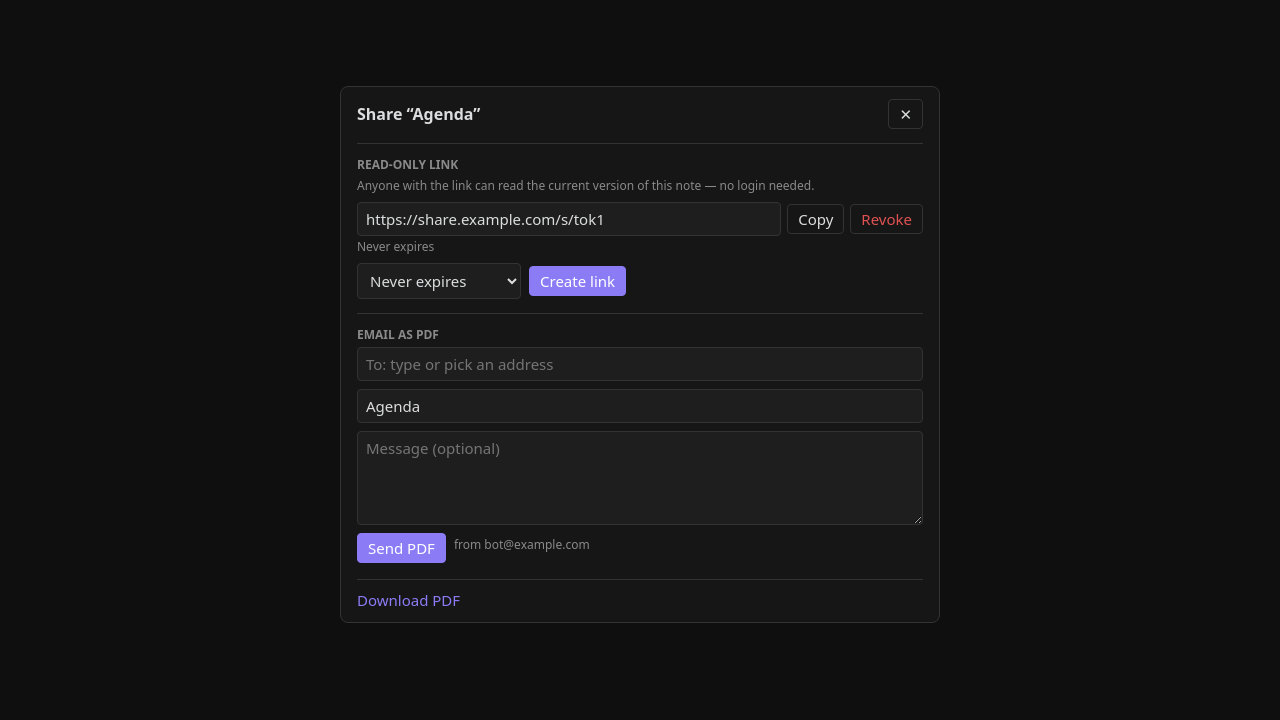
ShareDialog email › sends to comma-separated recipients with the title as default subject
expect the text "from bot@example.com" is shown: met, box [454,536,590,553]
Type "x@example.com, y@example.com" into the dropdown labelled "To" at (640, 364), box [364,352,916,376]
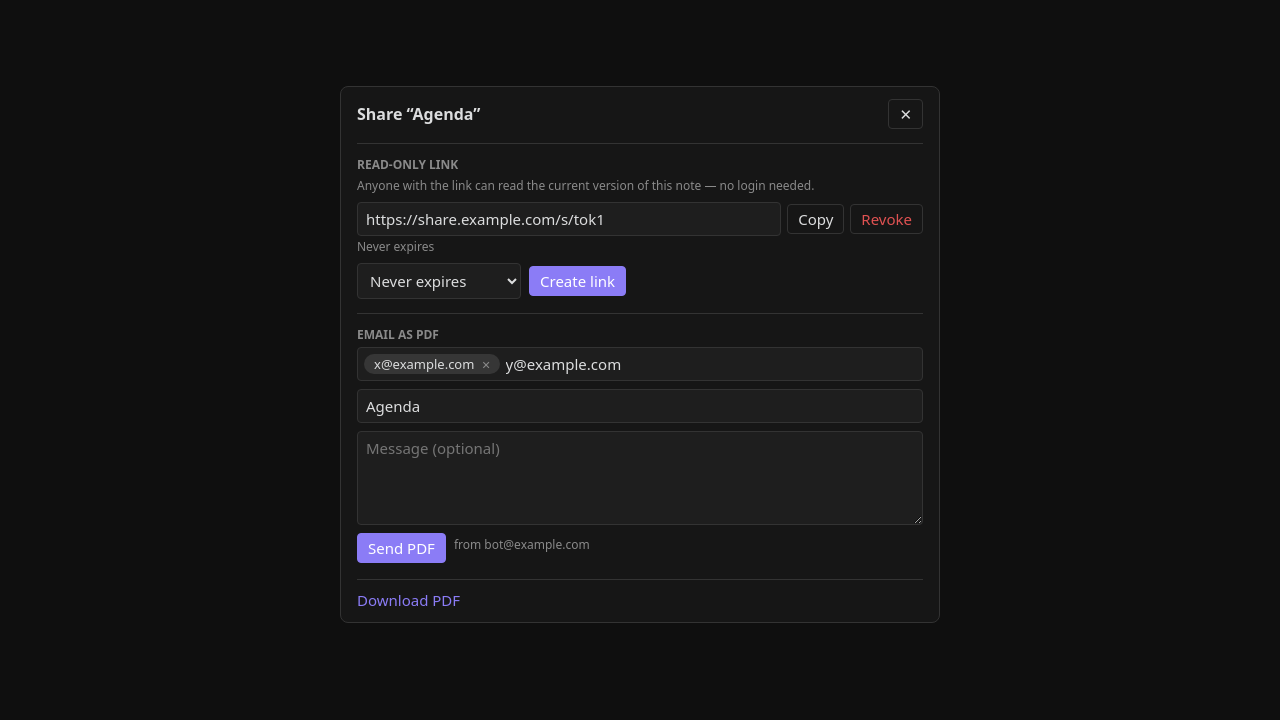
Type "Hej" into the text box labelled "Message" at (640, 478), box [357,431,923,525]
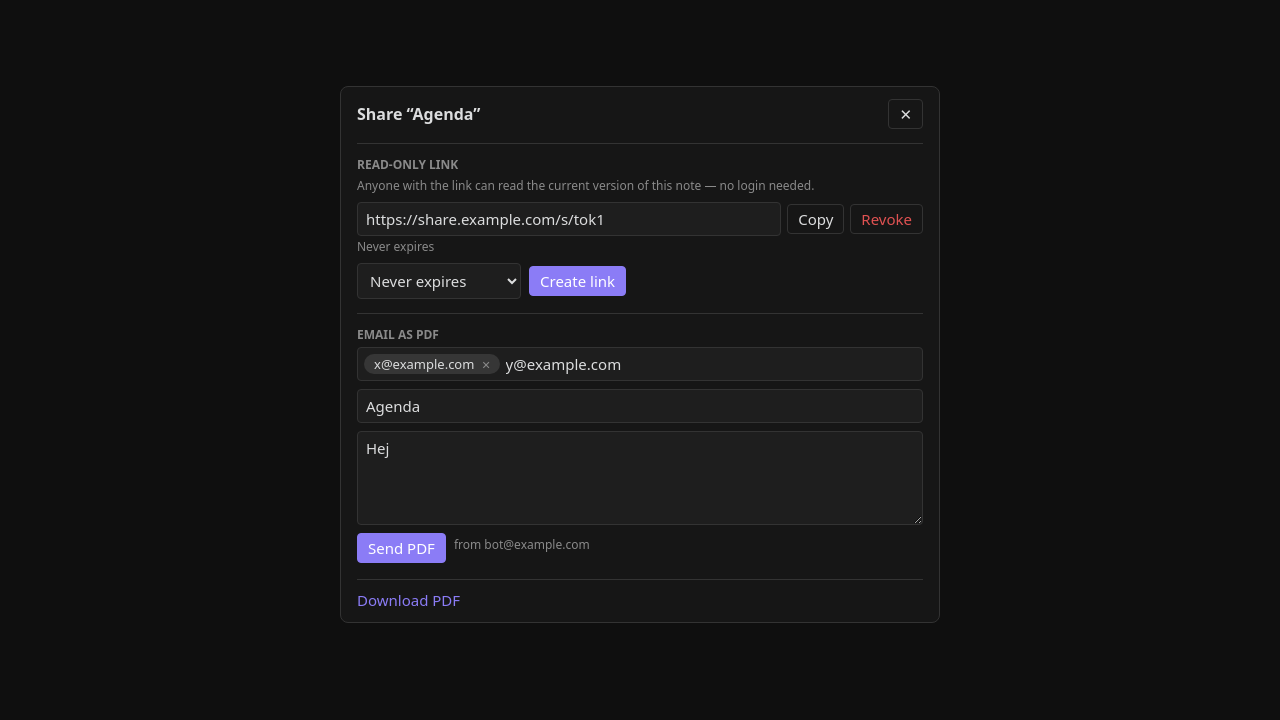
Click the button "Send PDF" at (401, 548), box [357,533,446,563]
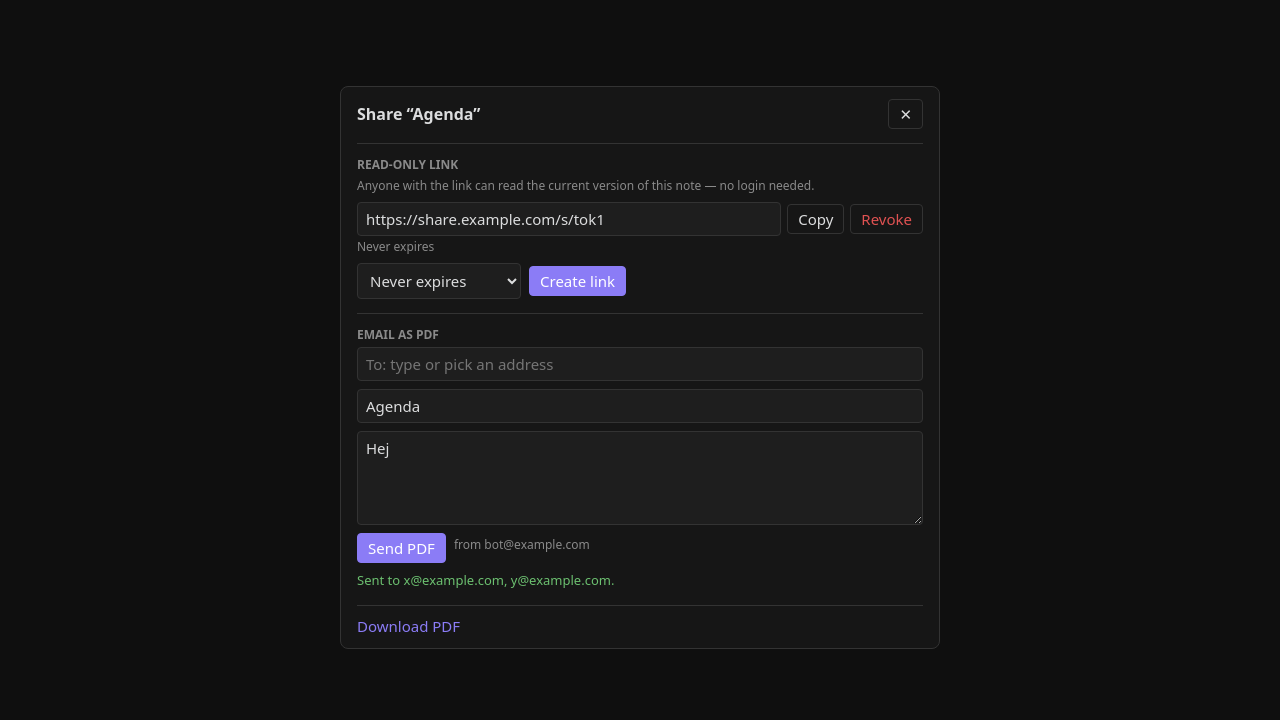
expect the text "Sent to x@example.com, y@example.com." is shown: met, box [357,571,614,589]
